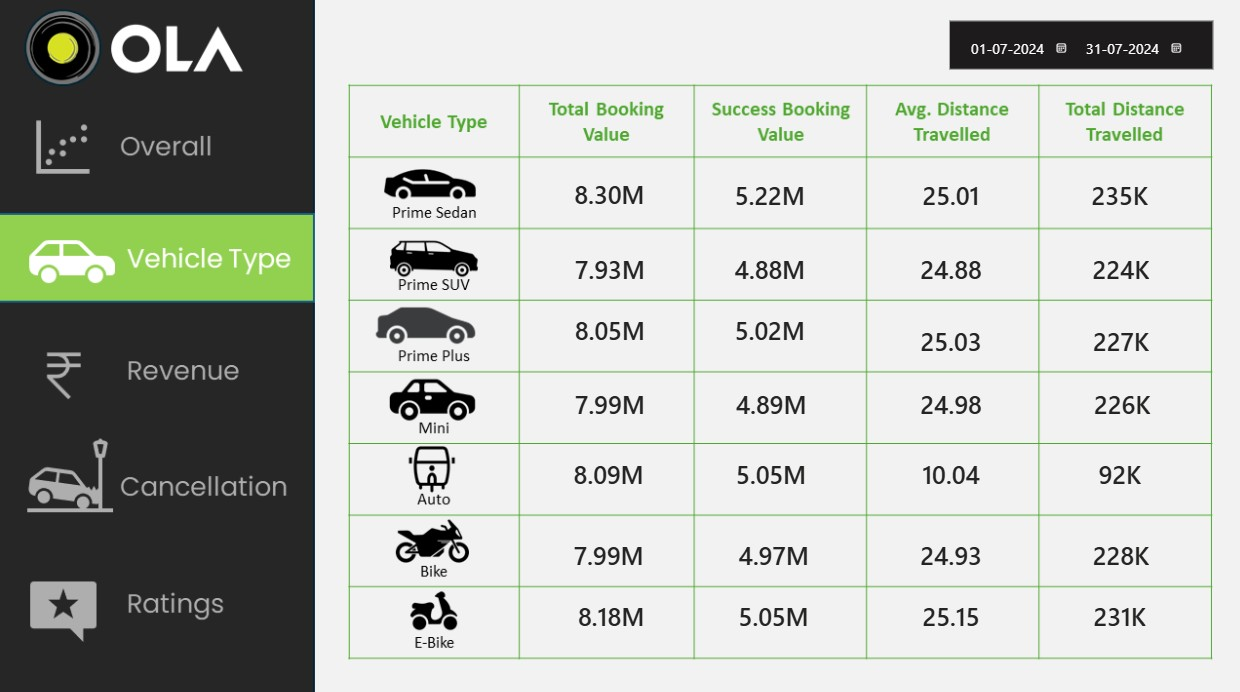

Layout of this report page (visuals, bound fields, positions):
{"tool":"powerbi","page":{"name":"Vehicle Type","canvas":[1280,720],"ordinal":1},"visuals":[{"type":"actionButton","box":[0,338.7,325.2,87.1],"z":0},{"type":"cardVisual","fields":{"Data":["Sum(ola data set.Booking_Value)"]},"box":[545,168.8,162.5,62.5],"z":1000},{"type":"cardVisual","fields":{"Data":["Sum(ola data set.Booking_Value)"]},"box":[544.8,244.3,163.3,63.1],"z":2000},{"type":"cardVisual","fields":{"Data":["Sum(ola data set.Booking_Value)"]},"box":[544.8,307.4,163.3,63.1],"z":3000},{"type":"cardVisual","fields":{"Data":["Sum(ola data set.Booking_Value)"]},"box":[544.8,382.8,163.3,63.1],"z":4000},{"type":"cardVisual","fields":{"Data":["Sum(ola data set.Booking_Value)"]},"box":[543.4,455.6,163.3,63.1],"z":5000},{"type":"cardVisual","fields":{"Data":["Sum(ola data set.Booking_Value)"]},"box":[543.4,537.9,163.3,63.1],"z":6000},{"type":"cardVisual","fields":{"Data":["Sum(ola data set.Booking_Value)"]},"box":[546.1,601,163.3,63.1],"z":7000},{"type":"cardVisual","fields":{"Data":["Sum(ola data set.Booking_Value)"]},"box":[709.4,168.8,163.3,63.1],"z":8000},{"type":"cardVisual","fields":{"Data":["Sum(ola data set.Booking_Value)"]},"box":[709.4,244.3,163.3,63.1],"z":9000},{"type":"cardVisual","fields":{"Data":["Sum(ola data set.Booking_Value)"]},"box":[709.4,307.4,163.3,63.1],"z":10000},{"type":"cardVisual","fields":{"Data":["Sum(ola data set.Booking_Value)"]},"box":[710.8,382.8,163.3,63.1],"z":11000},{"type":"cardVisual","fields":{"Data":["Sum(ola data set.Booking_Value)"]},"box":[710.8,455.6,163.3,63.1],"z":12000},{"type":"cardVisual","fields":{"Data":["Sum(ola data set.Booking_Value)"]},"box":[712.2,537.9,163.3,63.1],"z":13000},{"type":"cardVisual","fields":{"Data":["Sum(ola data set.Booking_Value)"]},"box":[712.2,601,163.3,63.1],"z":14000},{"type":"cardVisual","fields":{"Data":["Avg(ola data set.Ride_Distance)"]},"box":[894.7,168.8,163.3,63.1],"z":15000},{"type":"cardVisual","fields":{"Data":["Avg(ola data set.Ride_Distance)"]},"box":[894.7,244.3,163.3,63.1],"z":16000},{"type":"cardVisual","fields":{"Data":["Avg(ola data set.Ride_Distance)"]},"box":[894.7,319.7,163.3,63.1],"z":17000},{"type":"cardVisual","fields":{"Data":["Avg(ola data set.Ride_Distance)"]},"box":[894.7,382.8,163.3,63.1],"z":18000},{"type":"cardVisual","fields":{"Data":["Avg(ola data set.Ride_Distance)"]},"box":[894.7,455.6,163.3,63.1],"z":19000},{"type":"cardVisual","fields":{"Data":["Avg(ola data set.Ride_Distance)"]},"box":[894.7,537.9,163.3,63.1],"z":20000},{"type":"cardVisual","fields":{"Data":["Avg(ola data set.Ride_Distance)"]},"box":[894.7,601,163.3,63.1],"z":21000},{"type":"cardVisual","fields":{"Data":["Sum(ola data set.Ride_Distance)"]},"box":[1067.6,168.8,163.3,63.1],"z":22000},{"type":"cardVisual","fields":{"Data":["Sum(ola data set.Ride_Distance)"]},"box":[1069,244.3,163.3,63.1],"z":23000},{"type":"cardVisual","fields":{"Data":["Sum(ola data set.Ride_Distance)"]},"box":[1069,319.7,163.3,63.1],"z":24000},{"type":"cardVisual","fields":{"Data":["Sum(ola data set.Ride_Distance)"]},"box":[1070.3,382.8,163.3,63.1],"z":25000},{"type":"cardVisual","fields":{"Data":["Sum(ola data set.Ride_Distance)"]},"box":[1067.6,455.6,163.3,63.1],"z":26000},{"type":"cardVisual","fields":{"Data":["Sum(ola data set.Ride_Distance)"]},"box":[1069,537.9,163.3,63.1],"z":27000},{"type":"cardVisual","fields":{"Data":["Sum(ola data set.Ride_Distance)"]},"box":[1067.6,601,163.3,63.1],"z":28000},{"type":"slicer","title":"Date","fields":{"Values":["ola data set.Date"]},"box":[974.2,23.3,271.2,50.3],"z":29000}]}

Visuals, with their boxes on the page's 1280x720 design canvas (x1, y1, x2, y2). These are canvas units, not pixel positions in the 1240x692 screenshot, which may show the page scaled, cropped or inside an application window:
actionButton: 0,339,325,426
cardVisual - Sum(ola data set.Booking_Value): 545,169,708,231
cardVisual - Sum(ola data set.Booking_Value): 545,244,708,307
cardVisual - Sum(ola data set.Booking_Value): 545,307,708,370
cardVisual - Sum(ola data set.Booking_Value): 545,383,708,446
cardVisual - Sum(ola data set.Booking_Value): 543,456,707,519
cardVisual - Sum(ola data set.Booking_Value): 543,538,707,601
cardVisual - Sum(ola data set.Booking_Value): 546,601,709,664
cardVisual - Sum(ola data set.Booking_Value): 709,169,873,232
cardVisual - Sum(ola data set.Booking_Value): 709,244,873,307
cardVisual - Sum(ola data set.Booking_Value): 709,307,873,370
cardVisual - Sum(ola data set.Booking_Value): 711,383,874,446
cardVisual - Sum(ola data set.Booking_Value): 711,456,874,519
cardVisual - Sum(ola data set.Booking_Value): 712,538,876,601
cardVisual - Sum(ola data set.Booking_Value): 712,601,876,664
cardVisual - Avg(ola data set.Ride_Distance): 895,169,1058,232
cardVisual - Avg(ola data set.Ride_Distance): 895,244,1058,307
cardVisual - Avg(ola data set.Ride_Distance): 895,320,1058,383
cardVisual - Avg(ola data set.Ride_Distance): 895,383,1058,446
cardVisual - Avg(ola data set.Ride_Distance): 895,456,1058,519
cardVisual - Avg(ola data set.Ride_Distance): 895,538,1058,601
cardVisual - Avg(ola data set.Ride_Distance): 895,601,1058,664
cardVisual - Sum(ola data set.Ride_Distance): 1068,169,1231,232
cardVisual - Sum(ola data set.Ride_Distance): 1069,244,1232,307
cardVisual - Sum(ola data set.Ride_Distance): 1069,320,1232,383
cardVisual - Sum(ola data set.Ride_Distance): 1070,383,1234,446
cardVisual - Sum(ola data set.Ride_Distance): 1068,456,1231,519
cardVisual - Sum(ola data set.Ride_Distance): 1069,538,1232,601
cardVisual - Sum(ola data set.Ride_Distance): 1068,601,1231,664
"Date" slicer: 974,23,1245,74
